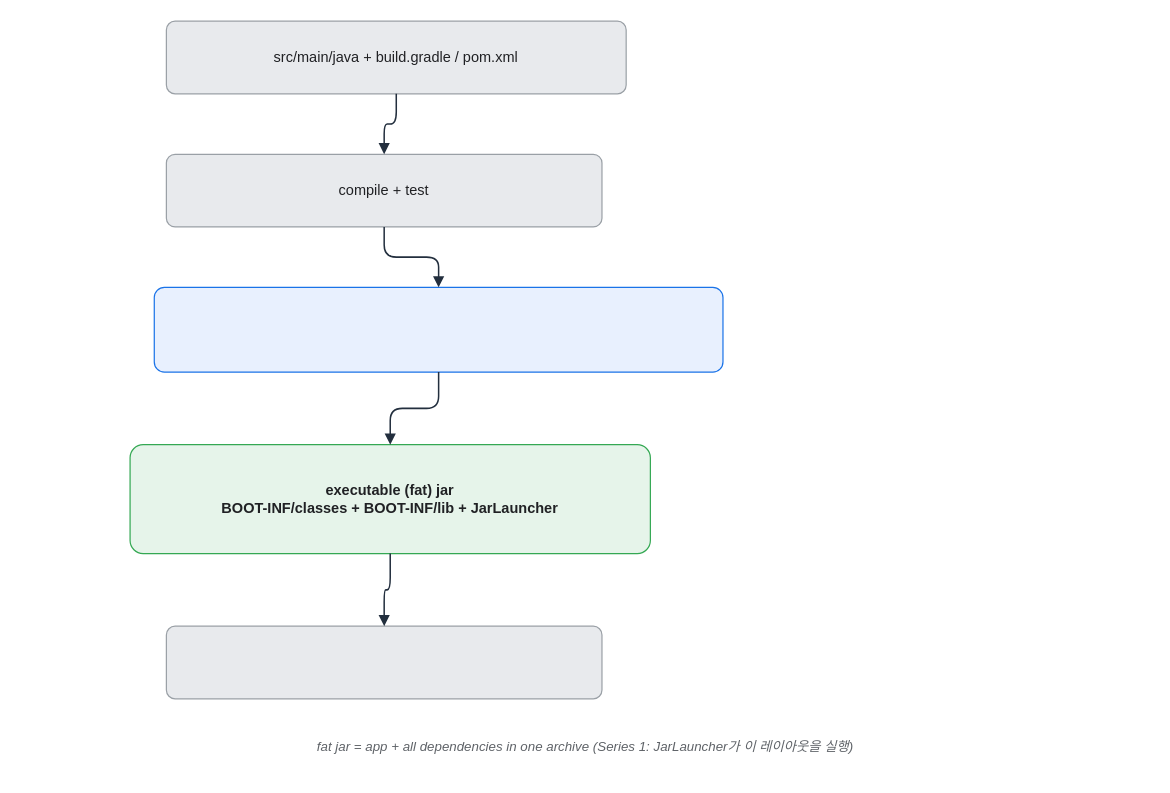
Some shapes in this 1170 by 793 pixel diagram are drawn without their labels. Here are the shapes that lost their labels. From the top down, the centre of each, then its label:
At point 438,329: "package: Spring Boot plugin (bootJar / repackage)".
At point 383,662: "java -jar app.jar".
